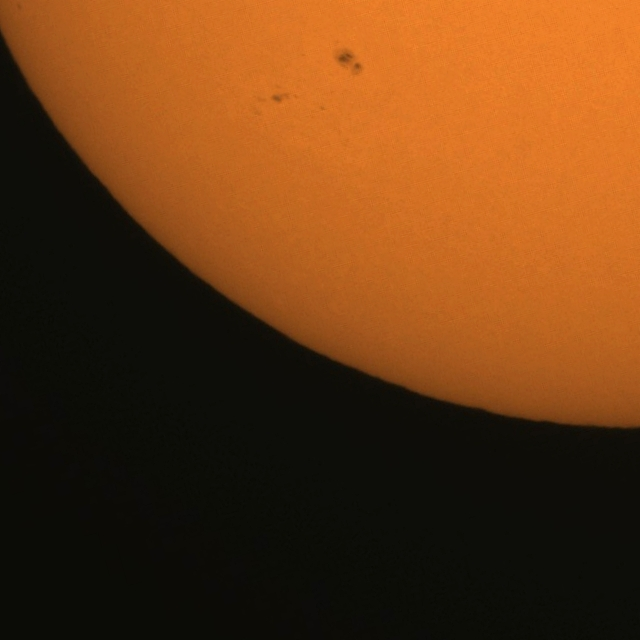sunspot: (334, 44, 364, 78), (269, 91, 298, 105), (16, 1, 23, 12)
